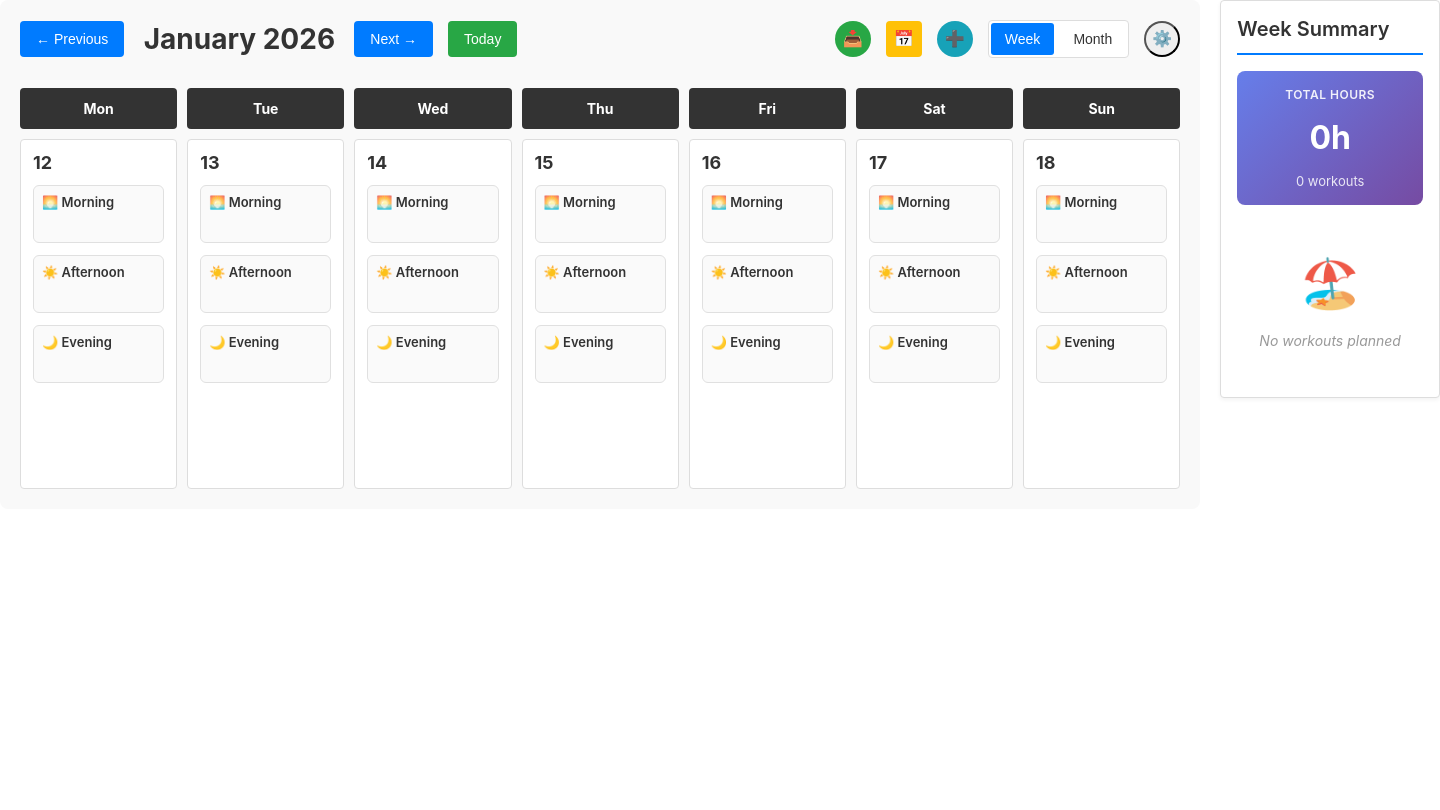
Test: Calendar Component › Adjacent month dates in month view › should show correct date numbers for next month days
The image size is (1440, 810).
# Switch to month view
Step 1. Click the button "Month" → x=1093, y=39, box [1059,23,1126,55]
(page scrolled)
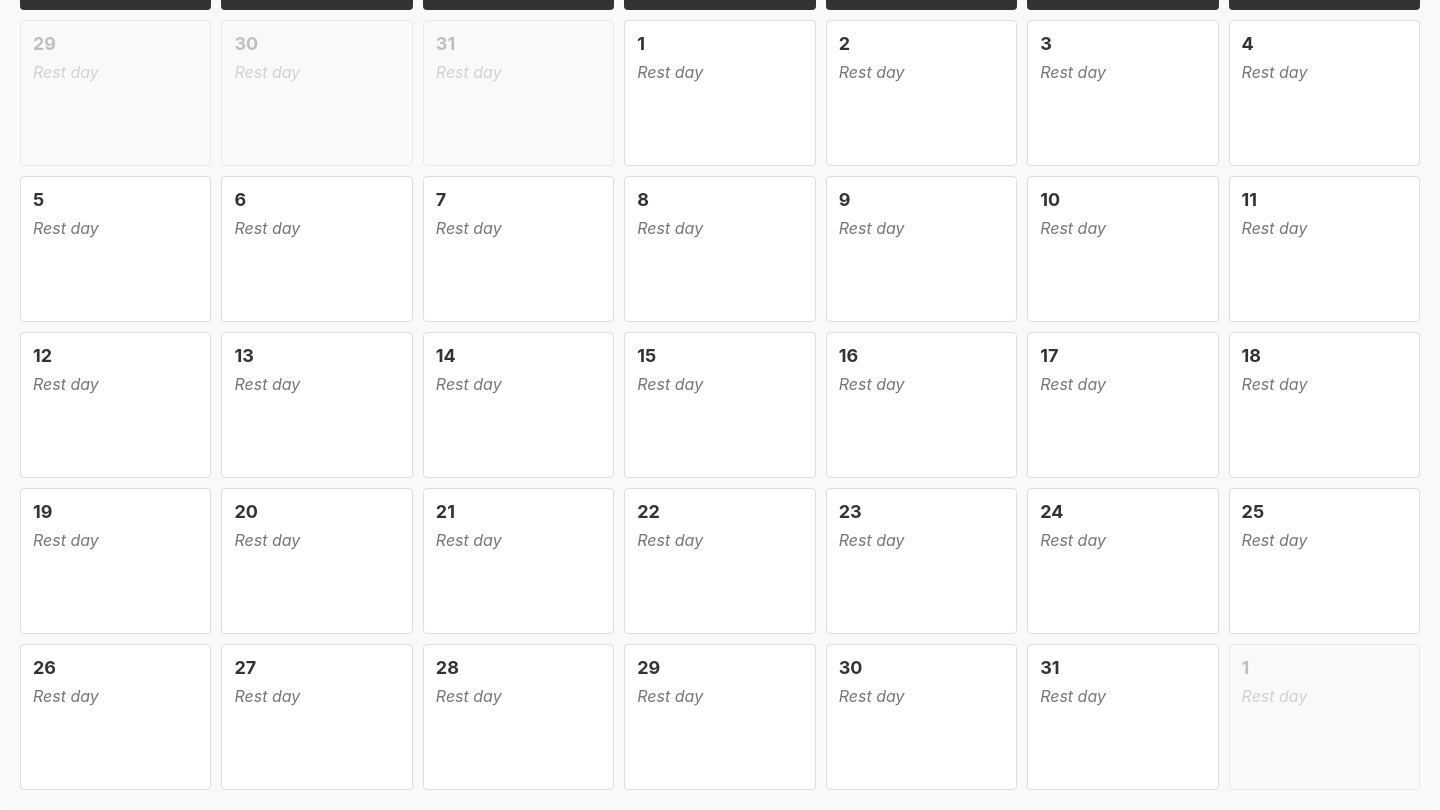
Expected: the 2nd text with class "day-number" reads "1", [1242,657,1249,678]
